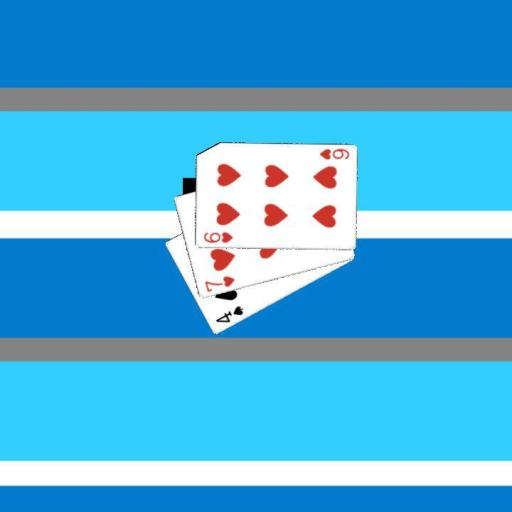4S: (213, 303, 245, 324)
6H: (200, 229, 234, 245), (316, 146, 350, 161)
7H: (201, 273, 236, 294)
